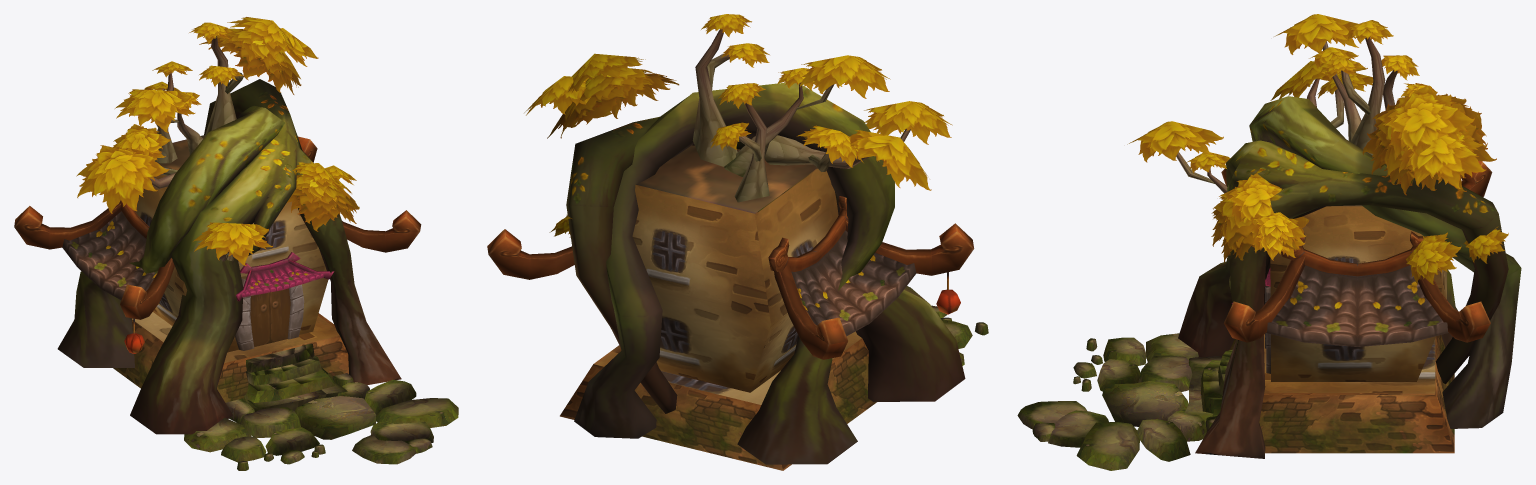
File: building.FBX
3 renders of one model, left to right at view 1: azimuth 30°, elevation 25°; view 2: azimuth 150°, elevation 25°; view 3: azimuth 270°, elevation 25°, orthographic. The views are drawn at different scales.
Visible parts, largest first — view 1: house, tree-01, stone, sm_flower_05, tree-02, sm_tree_03; view 2: house, tree-02, tree-01, sm_flower_05, sm_tree_03, stone; view 3: house, sm_flower_05, tree-01, stone, tree-02, sm_tree_03.
Part boxes in pixels (x1,y1,x2,y2): house: [14, 135, 421, 402]; tree-01: [130, 79, 401, 434]; stone: [184, 343, 458, 470]; sm_flower_05: [76, 17, 359, 265]; tree-02: [57, 105, 284, 367]; sm_tree_03: [144, 36, 243, 261]; house: [487, 145, 974, 470]; tree-02: [574, 82, 894, 464]; tree-01: [566, 116, 965, 413]; sm_flower_05: [524, 14, 952, 237]; sm_tree_03: [692, 29, 910, 202]; stone: [931, 305, 988, 365]; house: [1221, 161, 1492, 453]; sm_flower_05: [1127, 14, 1508, 284]; tree-01: [1178, 140, 1508, 458]; stone: [1017, 333, 1232, 470]; tree-02: [1249, 96, 1521, 428]; sm_tree_03: [1176, 37, 1437, 193].
Bounding box in the file's own units: 101 × 123 × 102.
